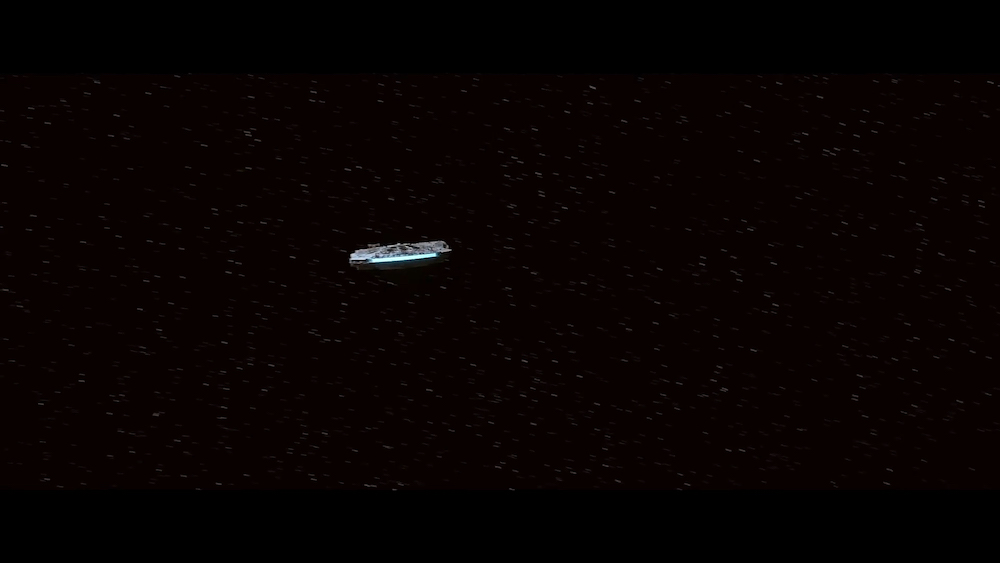Millennium Falcon: (349, 241, 455, 273)
